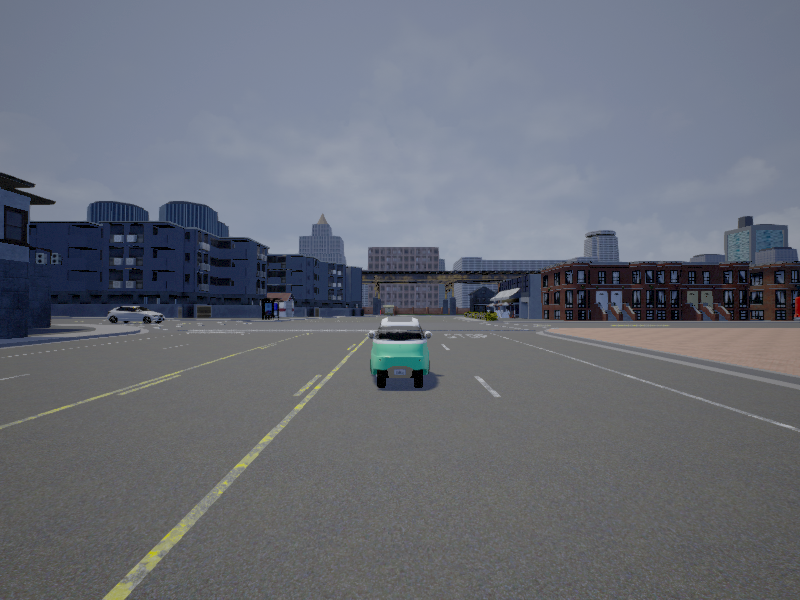Benign: (367, 316, 432, 390), (105, 306, 165, 325), (793, 297, 800, 321)
